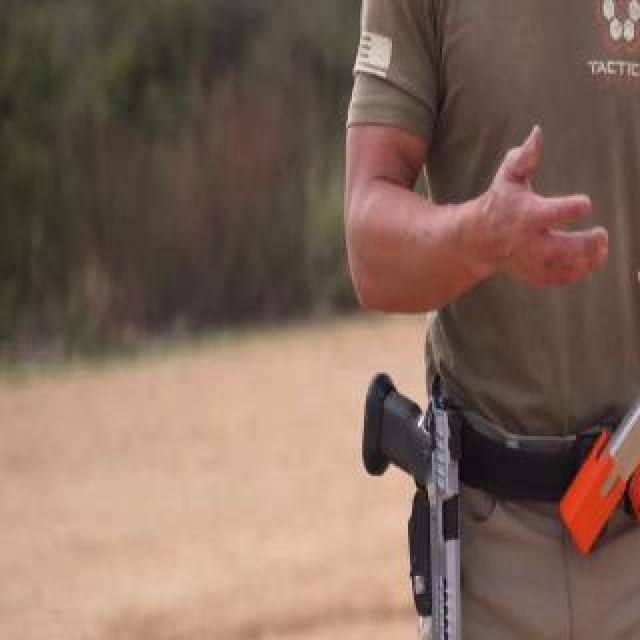Guns: (345, 353, 505, 640)
